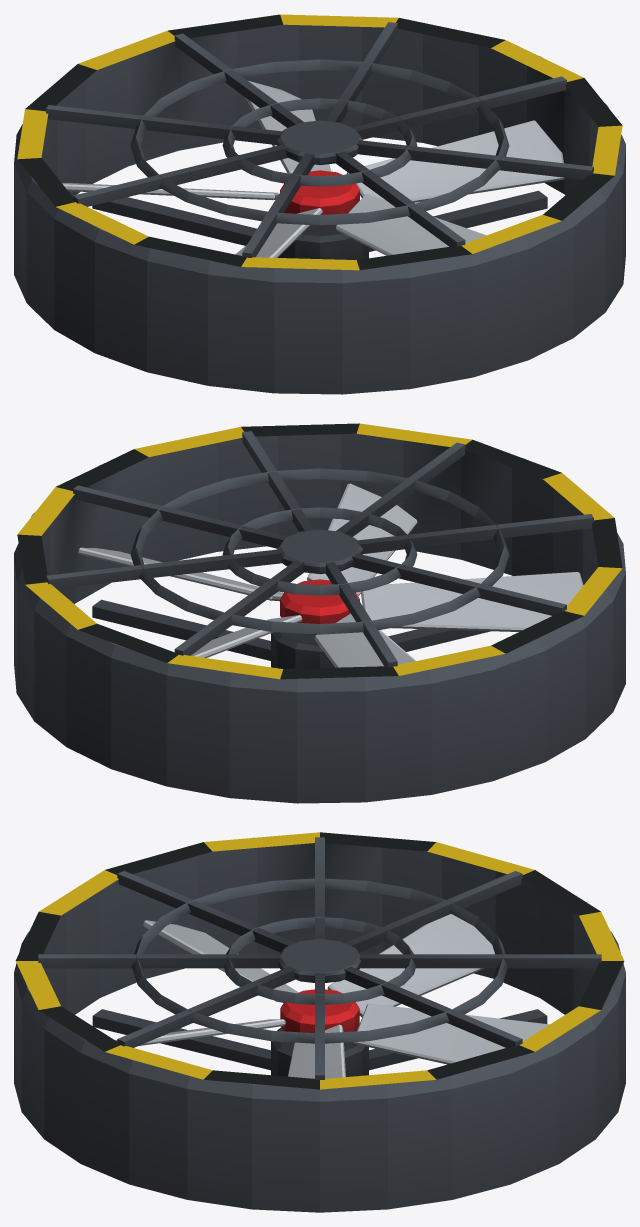
File: fan.glb
3 renders of one model, top to bottom at view 1: azimuth 30°, elevation 25°; view 2: azimuth 150°, elevation 25°; view 3: azimuth 270°, elevation 25°, orthographic.
Parts seen in each view (by area): view 1: Body, Blades; view 2: Body, Blades; view 3: Body, Blades.
Part boxes in pixels (bbox=[...]): Body: bbox=[14, 14, 625, 394]; Blades: bbox=[62, 81, 564, 257]; Body: bbox=[14, 423, 625, 803]; Blades: bbox=[78, 483, 583, 667]; Body: bbox=[14, 832, 625, 1212]; Blades: bbox=[115, 914, 549, 1078].
Size of the model in its own units: 2 by 0.46 by 2.
